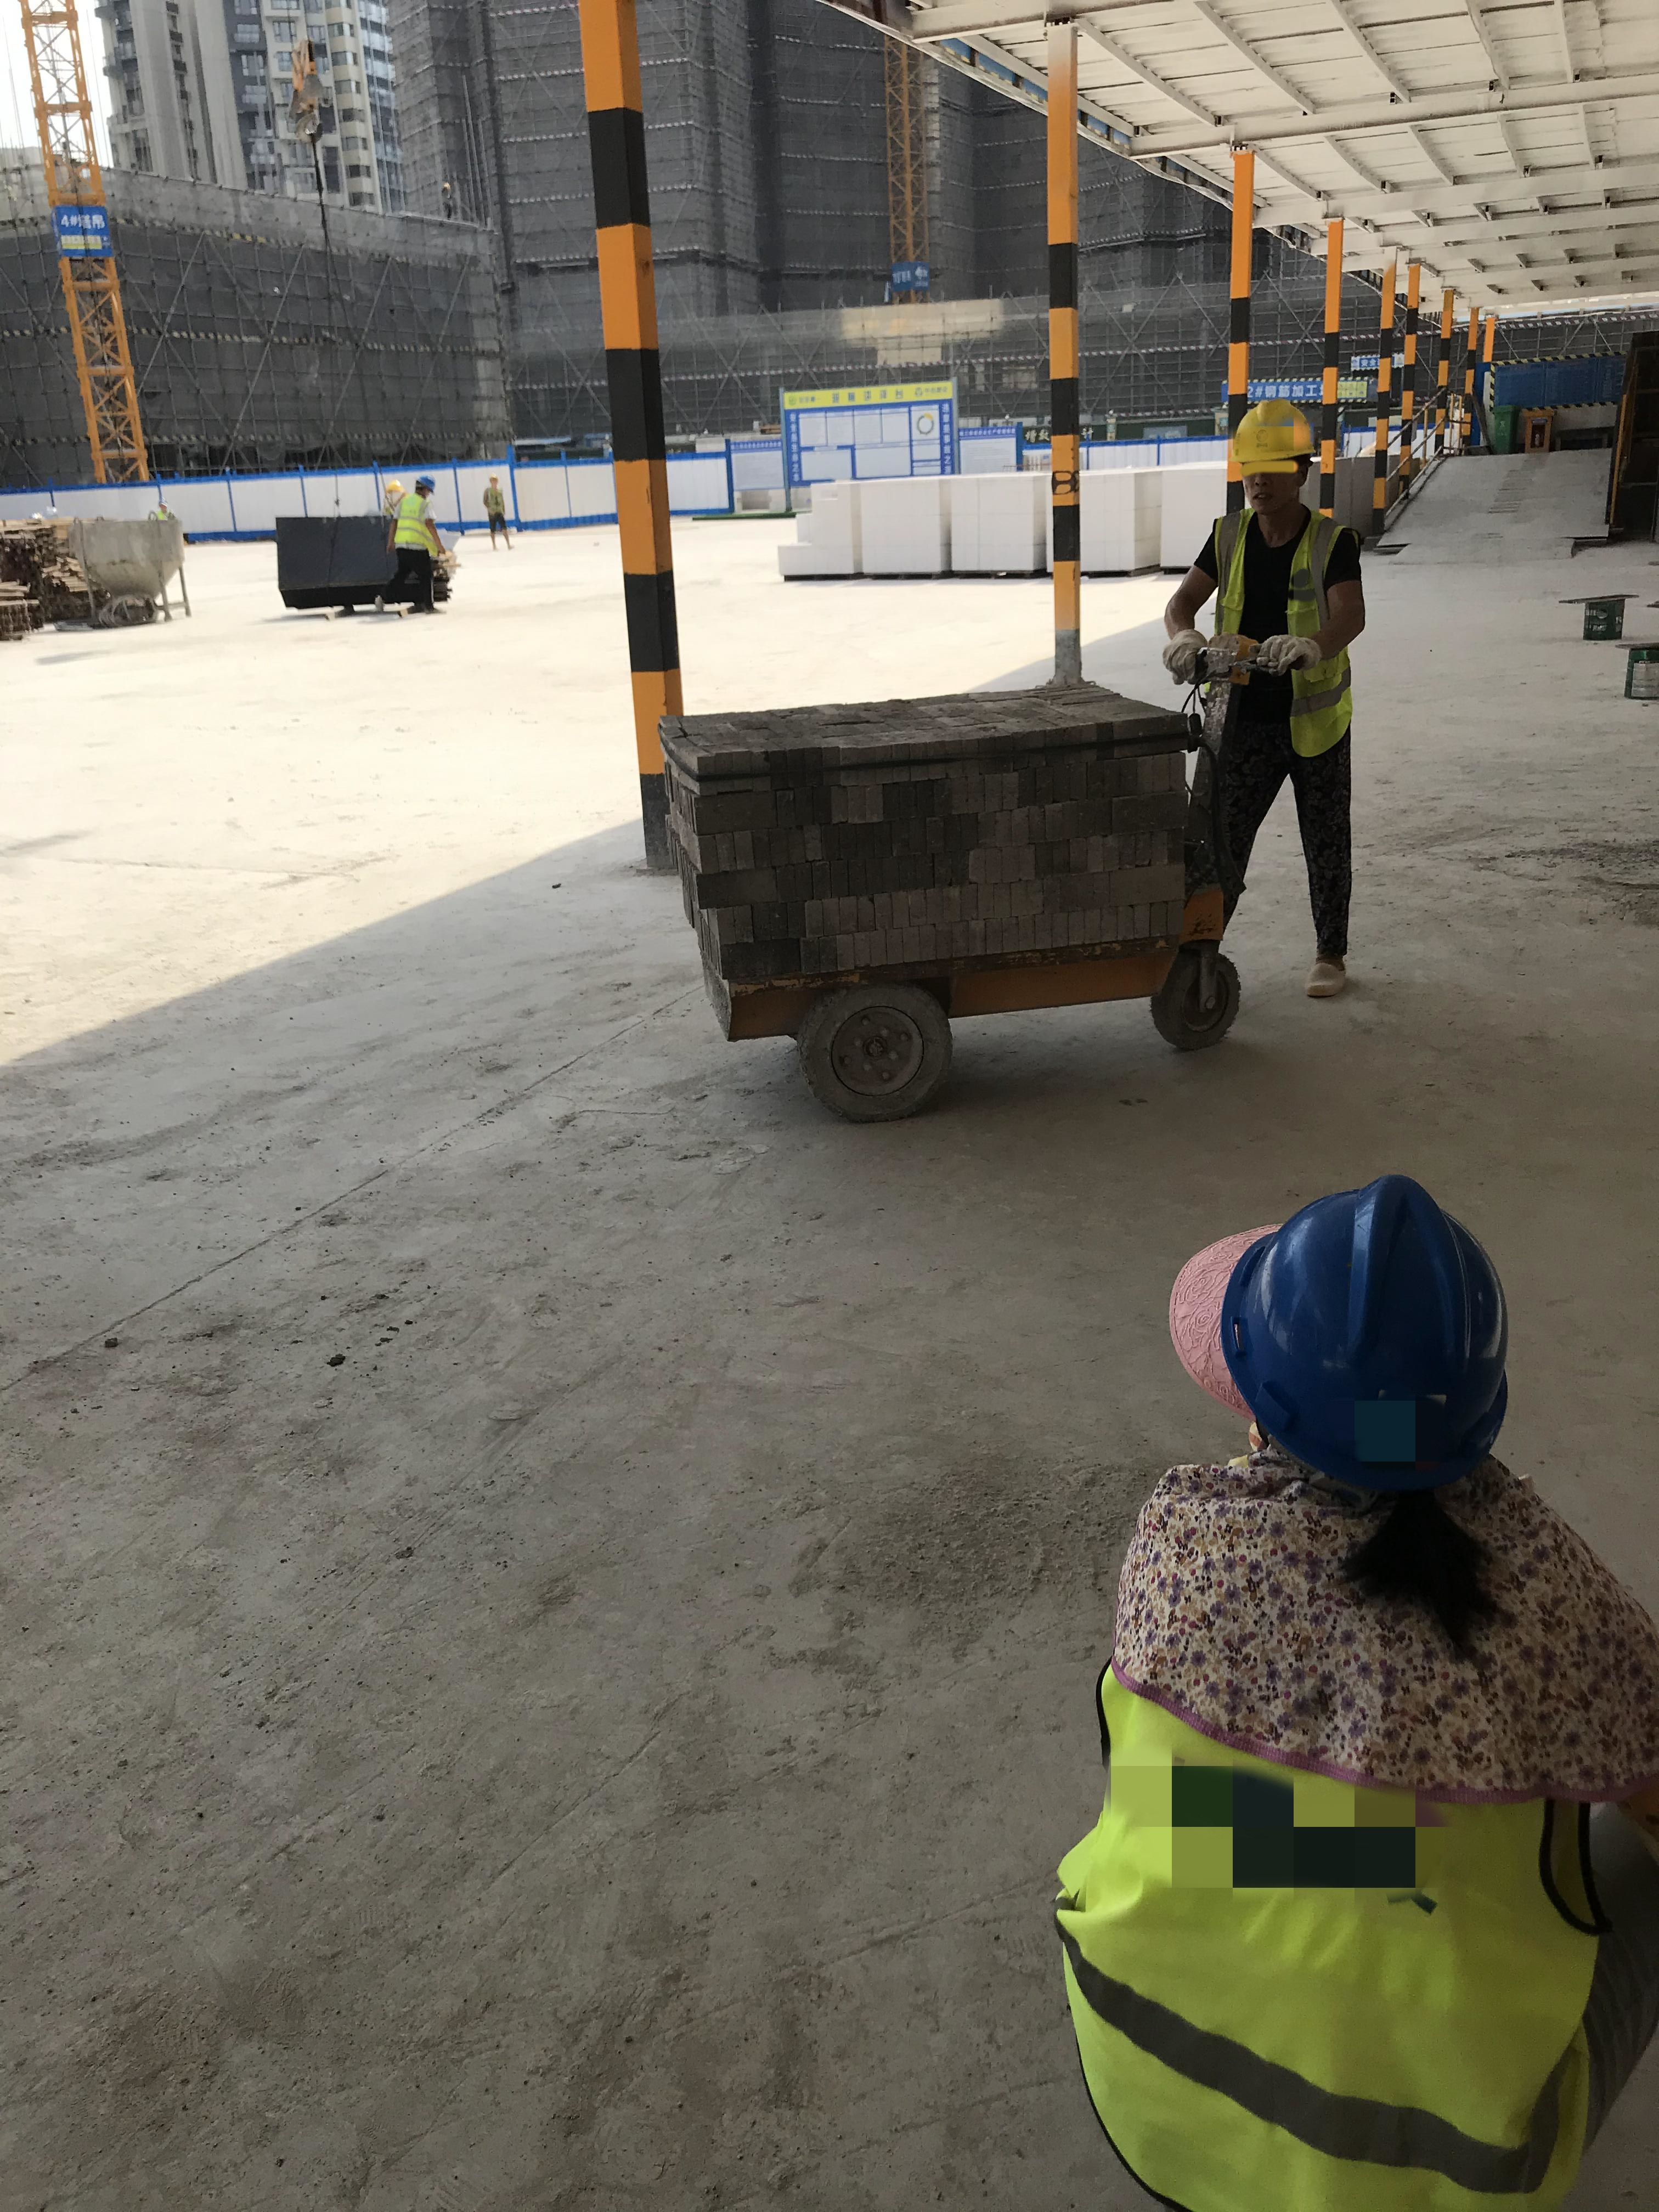helmet: (1222, 1181, 1517, 1500), (1235, 400, 1313, 465), (417, 476, 435, 495), (489, 472, 499, 480)
person: (1047, 1167, 1655, 2212), (1167, 396, 1373, 1017), (369, 476, 440, 615), (483, 472, 514, 551)
vest: (1051, 1644, 1599, 2212), (1212, 510, 1363, 763), (395, 492, 441, 558), (483, 488, 508, 515)
